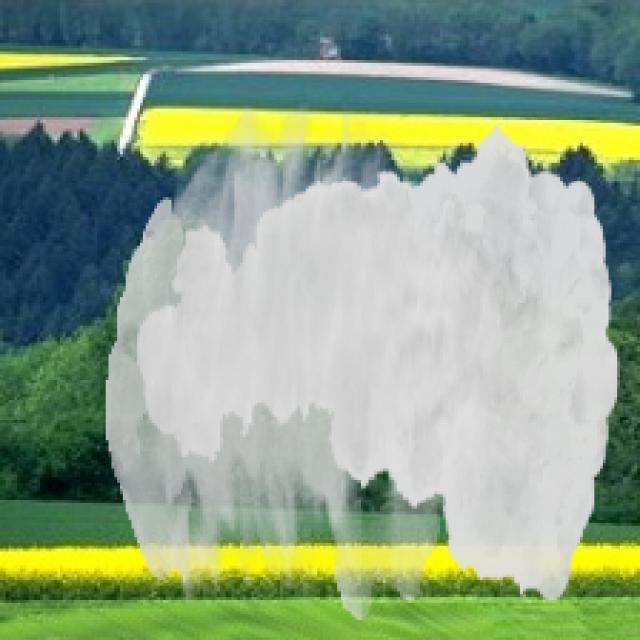Smoke: (105, 103, 620, 620)
